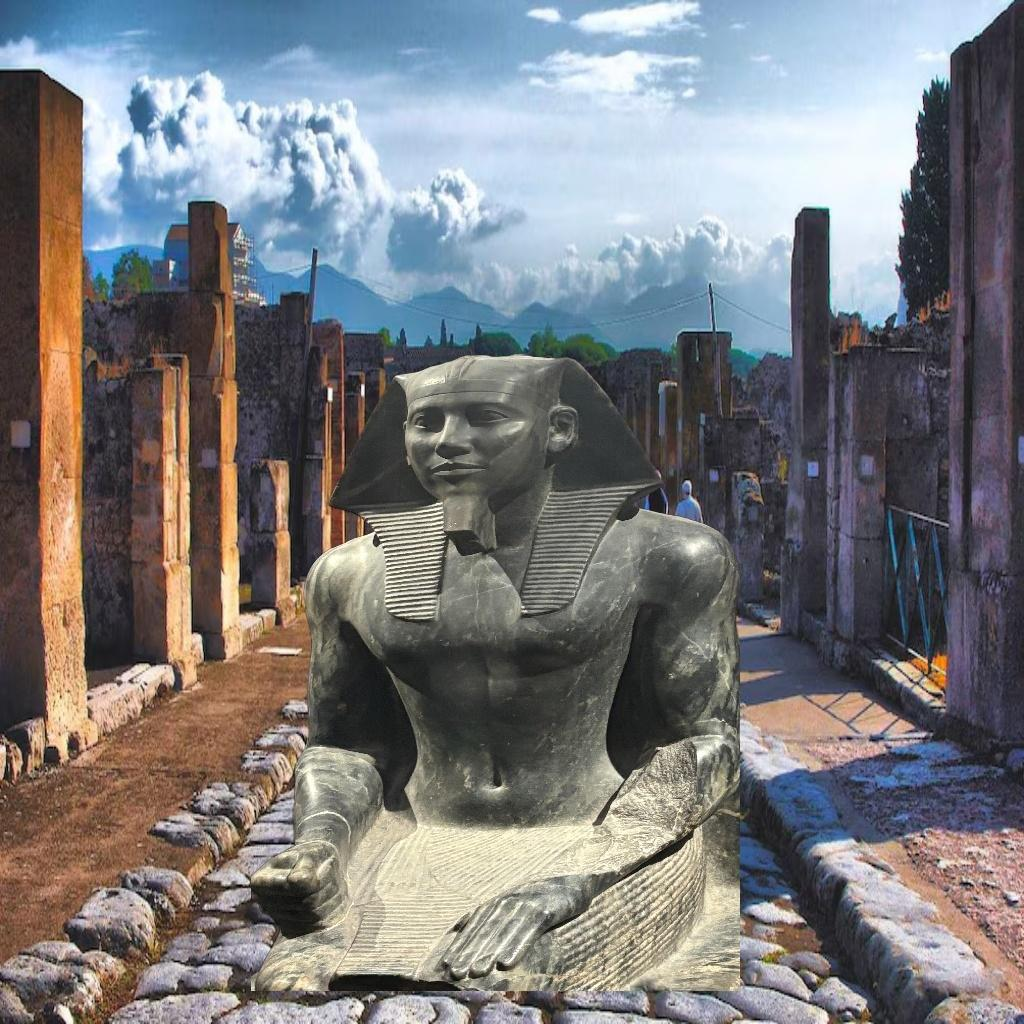Statue of Khafre: (251, 350, 740, 992)
